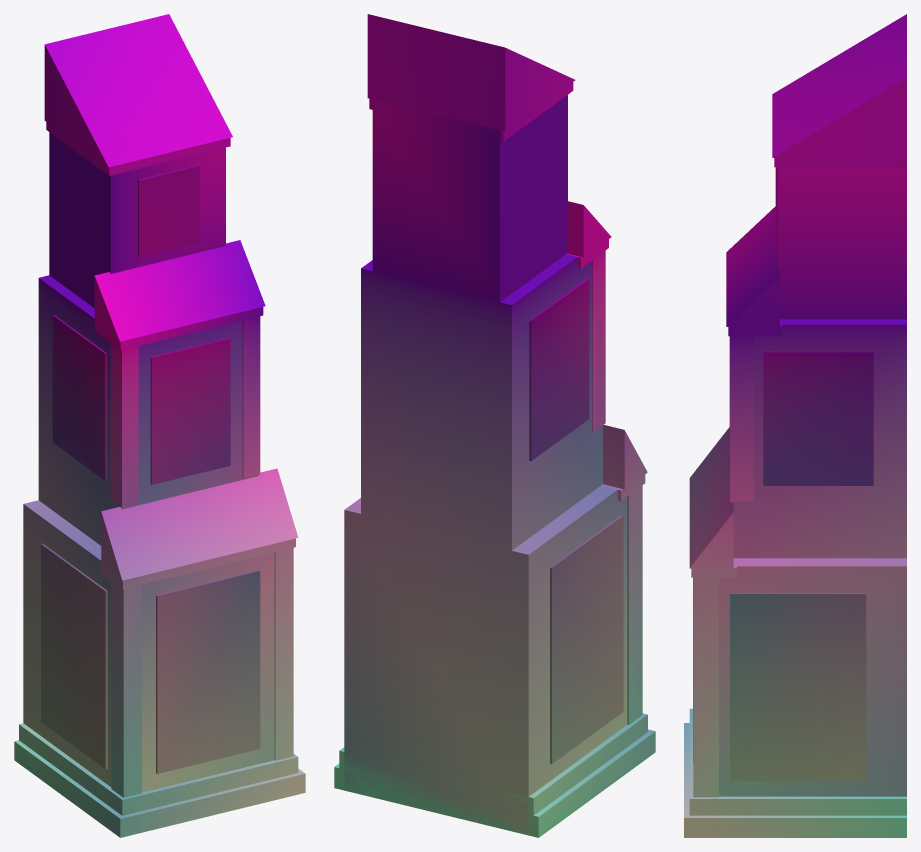
Rendered from buttress.glb.
3 views of the same model, side by side, from view 1: azimuth 30°, elevation 25°; view 2: azimuth 150°, elevation 25°; view 3: azimuth 270°, elevation 25° (orthographic). The views are drawn at different scales.
Parts seen in each view (by area): view 1: buttress_slopes, buttress_panels, buttress_body; view 2: buttress_body, buttress_slopes, buttress_panels; view 3: buttress_body, buttress_slopes, buttress_panels.
Boxes of the visible parts, bbox=[...] form: buttress_slopes: bbox=[14, 14, 305, 837]; buttress_panels: bbox=[41, 165, 260, 773]; buttress_body: bbox=[23, 132, 274, 792]; buttress_body: bbox=[344, 95, 627, 835]; buttress_slopes: bbox=[334, 14, 655, 837]; buttress_panels: bbox=[529, 278, 623, 764]; buttress_body: bbox=[719, 167, 906, 796]; buttress_slopes: bbox=[684, 14, 906, 837]; buttress_panels: bbox=[693, 167, 873, 780].
Size of the model in its own units: 1.22 by 4.46 by 1.21.
